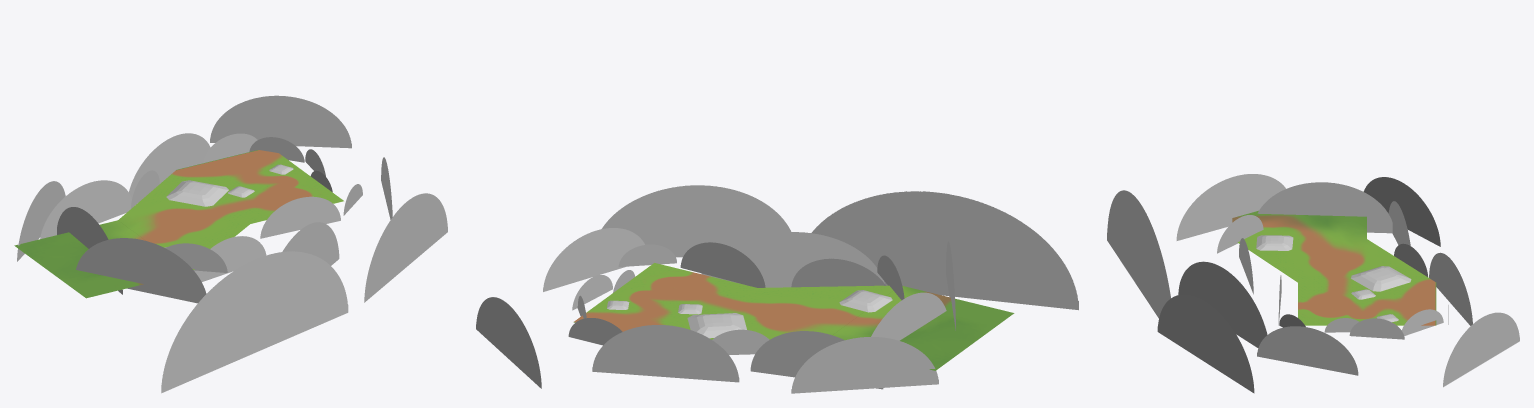
File: Локация2_02.fbx
3 views of the same model, side by side, from view 1: azimuth 30°, elevation 25°; view 2: azimuth 150°, elevation 25°; view 3: azimuth 270°, elevation 25° (orthographic). The views are drawn at different scales.
Parts seen in each view (by area): view 1: Plane, Холм_Фейк_зад9, Холм_Фейк_зад17, Холм_Фейк_зад2, Холм_Фейк_зад13, Холм_Фейк_зад19, Холм_Фейк_зад15, Холм_Фейк_зад7, Холм_Фейк_зад14, Холм_Фейк_зад, Холм_Фейк_зад6, Холм_Фейк_зад11 (+6 smaller); view 2: Холм_Фейк_зад9, Plane, Холм_Фейк_зад13, Холм_Фейк_зад14, Холм_Фейк_зад15, Холм_Фейк_зад, Холм_Фейк_зад8, Холм_Фейк_зад17, Холм_Фейк_зад19, Холм_Фейк_зад7, Холм_Фейк_зад11, Холм_Фейк_зад6 (+7 smaller); view 3: Plane, Холм_Фейк_зад13, Холм_Фейк_зад9, Холм_Фейк_зад2, Холм_Фейк_зад11, Холм_Фейк_зад, Холм_Фейк_зад8, Холм_Фейк_зад17, Холм_Фейк_зад14, Холм_Фейк_зад15, холмик, Холм_Фейк_зад10 (+7 smaller).
Boxes of the visible parts, x1,y1,x2,y2 form: Plane: (14, 150, 343, 298); Холм_Фейк_зад9: (161, 251, 348, 393); Холм_Фейк_зад17: (210, 95, 351, 148); Холм_Фейк_зад2: (76, 238, 206, 303); Холм_Фейк_зад13: (364, 193, 447, 302); Холм_Фейк_зад19: (40, 180, 131, 239); Холм_Фейк_зад15: (129, 133, 210, 198); Холм_Фейк_зад7: (260, 196, 340, 238); Холм_Фейк_зад14: (17, 181, 65, 261); Холм_Фейк_зад: (282, 222, 339, 265); Холм_Фейк_зад6: (194, 236, 266, 281); Холм_Фейк_зад11: (57, 207, 122, 294); Холм_Фейк_зад9: (811, 191, 1078, 310); Plane: (573, 263, 1014, 370); Холм_Фейк_зад13: (601, 185, 791, 257); Холм_Фейк_зад14: (791, 337, 938, 393); Холм_Фейк_зад15: (592, 325, 739, 382); Холм_Фейк_зад: (701, 232, 884, 287); Холм_Фейк_зад8: (543, 228, 644, 291); Холм_Фейк_зад17: (476, 297, 541, 388); Холм_Фейк_зад19: (750, 331, 883, 389); Холм_Фейк_зад7: (680, 242, 765, 287); Холм_Фейк_зад11: (871, 292, 946, 340); Холм_Фейк_зад6: (791, 258, 885, 287); Plane: (1232, 210, 1436, 325); Холм_Фейк_зад13: (1157, 294, 1254, 393); Холм_Фейк_зад9: (1107, 190, 1170, 318); Холм_Фейк_зад2: (1176, 174, 1285, 240); Холм_Фейк_зад11: (1257, 182, 1392, 233); Холм_Фейк_зад: (1178, 261, 1267, 347); Холм_Фейк_зад8: (1257, 326, 1358, 375); Холм_Фейк_зад17: (1443, 312, 1519, 387); Холм_Фейк_зад14: (1363, 177, 1440, 246); Холм_Фейк_зад15: (1429, 252, 1472, 325); холмик: (1351, 266, 1411, 291); Холм_Фейк_зад10: (1217, 215, 1263, 253).
Bounding box in the file's own units: 20639 × 12640 × 20828.
